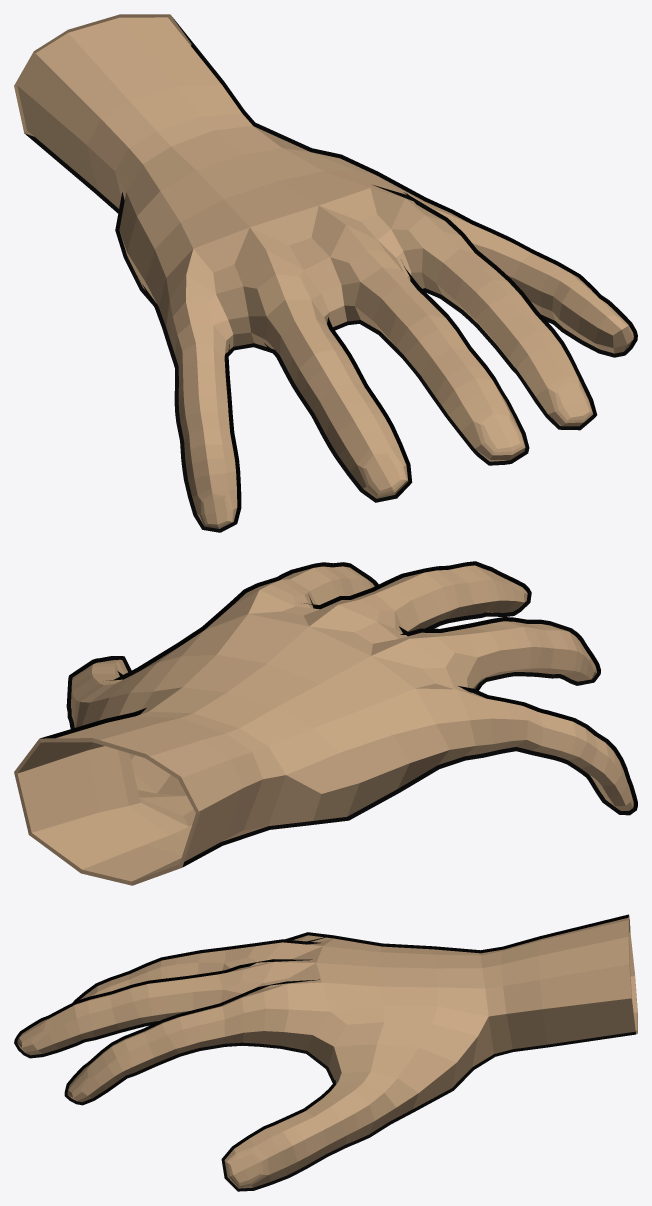
File: low_poly_human_hand.glb
The picture shows the model from 3 angles, top to bottom: view 1: azimuth 30°, elevation 25°; view 2: azimuth 150°, elevation 25°; view 3: azimuth 270°, elevation 25°; orthographic projection. The views are drawn at different scales.
Parts seen in each view (by area): view 1: cube_2; view 2: cube_2; view 3: cube_2.
Part boxes in pixels (box(x1,y1,x2,y2)): cube_2: box(14, 14, 637, 532); cube_2: box(14, 561, 637, 885); cube_2: box(14, 914, 637, 1191).
Bounding box in the file's own units: 2.68 × 1.29 × 3.92.
